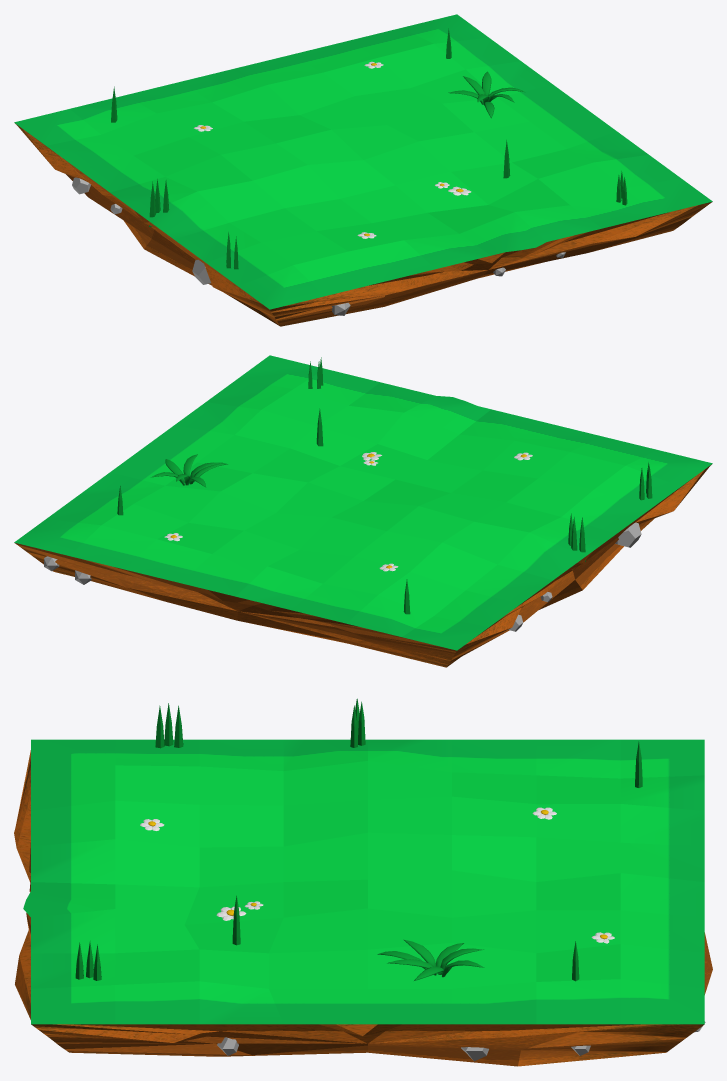
Rendered from grassflowerwhite.fbx.
3 views of the same model, one above another, from view 1: azimuth 30°, elevation 25°; view 2: azimuth 150°, elevation 25°; view 3: azimuth 270°, elevation 25° (orthographic). The views are drawn at different scales.
Parts seen in each view (by area): view 1: pCube1, GrassesGRPpolySurface493; view 2: pCube1, GrassesGRPpolySurface493; view 3: pCube1, GrassesGRPpolySurface493.
Boxes of the visible parts, <box> form: pCube1: <box>14,14,712,326</box>; GrassesGRPpolySurface493: <box>448,71,525,118</box>; pCube1: <box>14,355,712,667</box>; GrassesGRPpolySurface493: <box>151,454,227,487</box>; pCube1: <box>14,739,712,1066</box>; GrassesGRPpolySurface493: <box>377,939,484,980</box>.
Bounding box in the file's own units: 101 × 14.79 × 102.
Materials: 6 (2 with a texture image).
